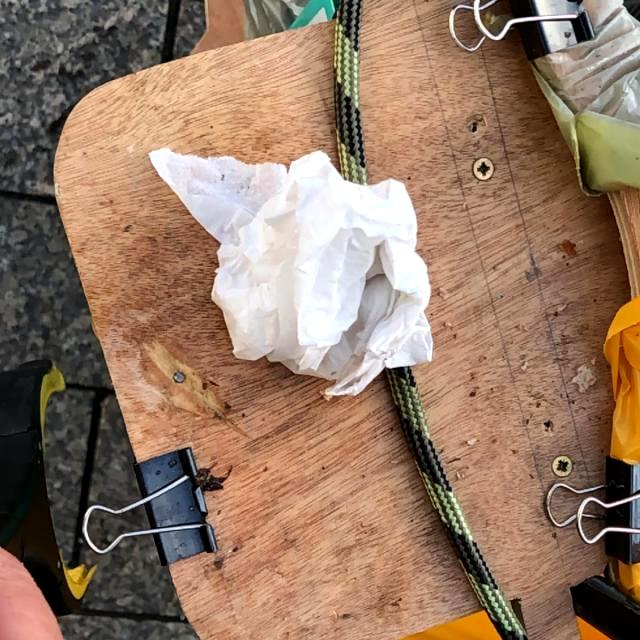Paper: (145, 141, 439, 401)
